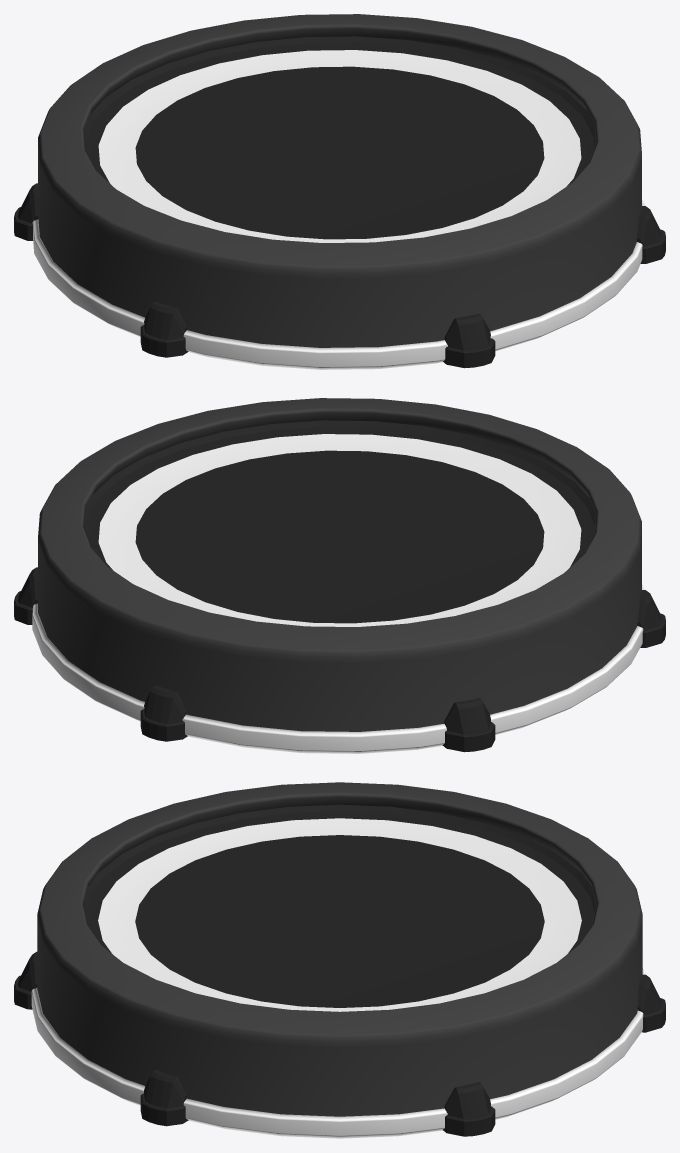
The model's file is DrumsThick.fbx.
3 views of the same model, one above another, from view 1: azimuth 30°, elevation 25°; view 2: azimuth 150°, elevation 25°; view 3: azimuth 270°, elevation 25° (orthographic).
Visible parts, largest first — view 1: SM_DrumThick_01; view 2: SM_DrumThick_01; view 3: SM_DrumThick_01.
Boxes of the visible parts, box(x1,y1,x2,y2) form: SM_DrumThick_01: box(14, 14, 665, 369); SM_DrumThick_01: box(14, 398, 665, 753); SM_DrumThick_01: box(14, 782, 665, 1138).
Bounding box in the file's own units: 0.2845 × 0.3007 × 0.0568.
